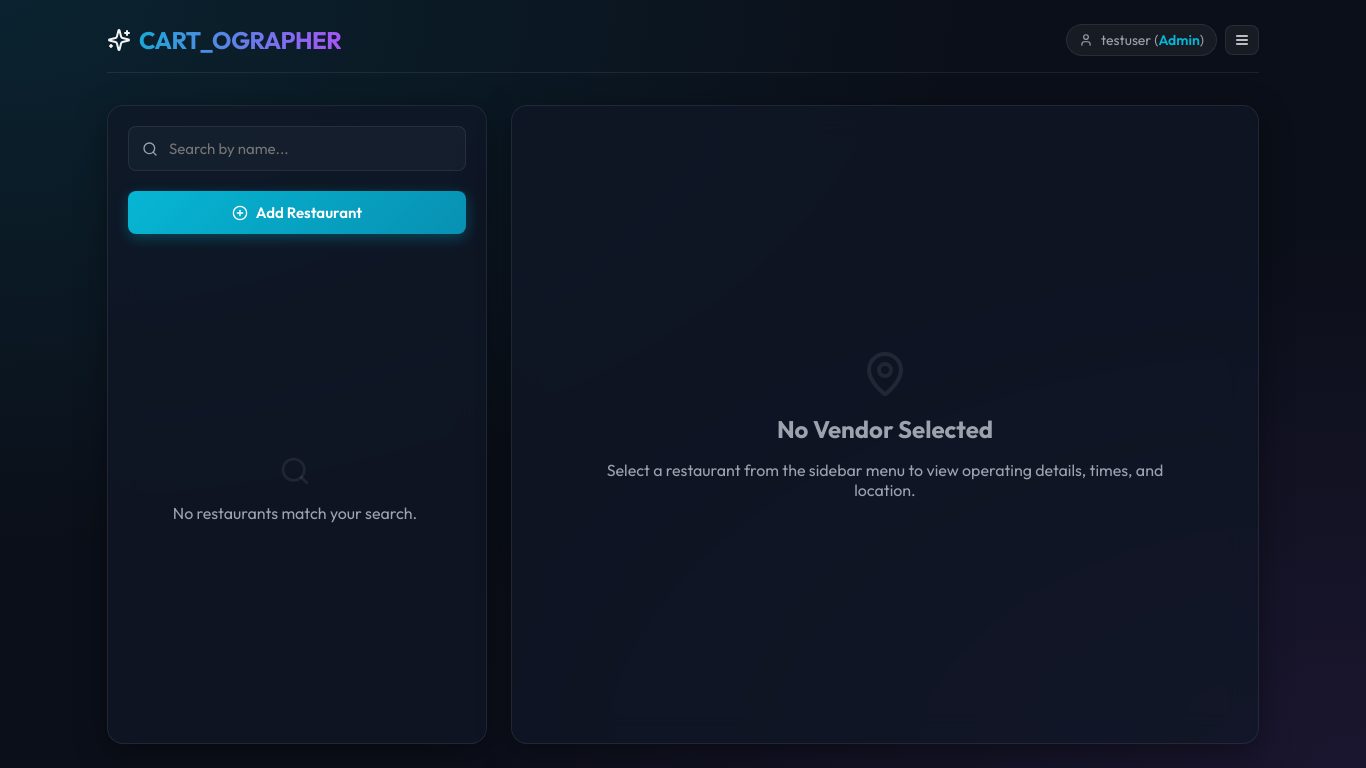
Test case: Web UI - App Component › Admin approvals view loads pending restaurants
The image size is (1366, 768).
Click the button named "menu" at (1242, 40), box top-left (1225, 25), bottom-right (1259, 55)
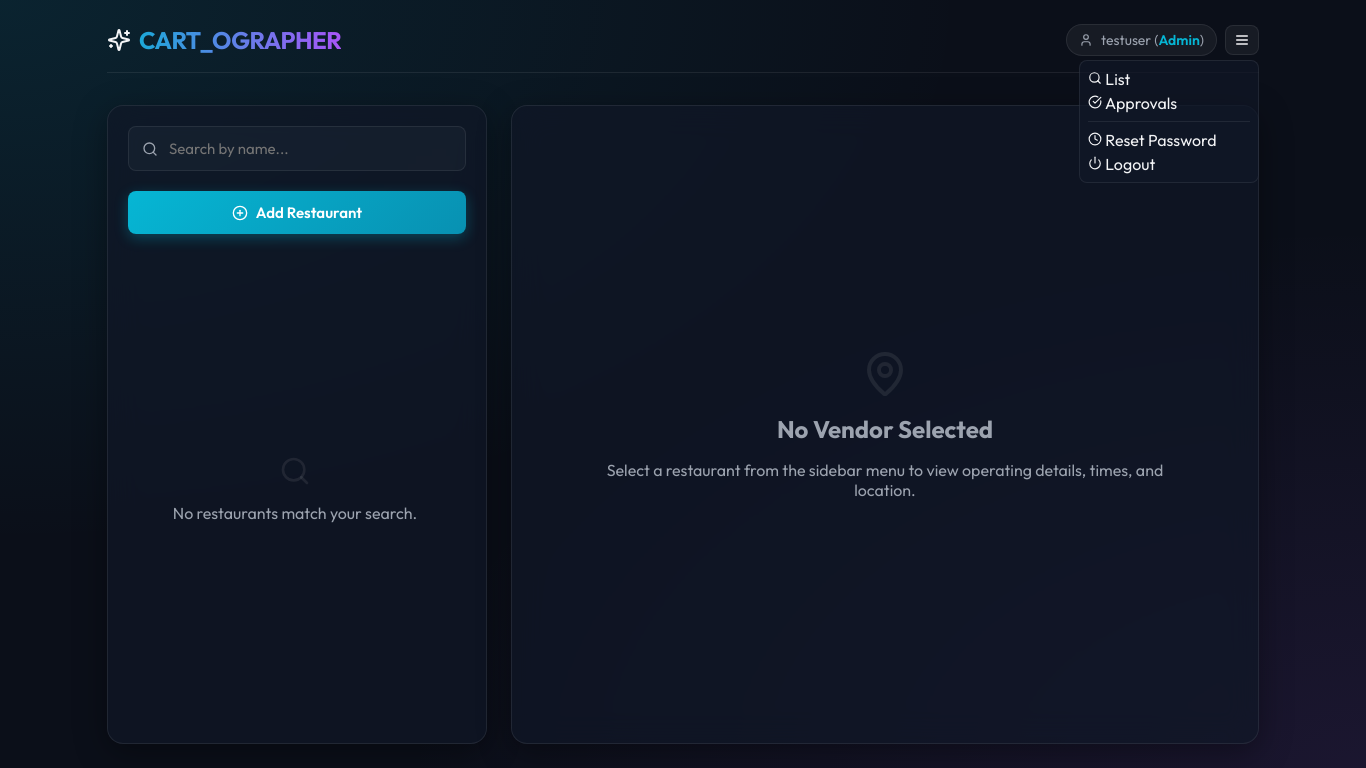
Click the text "Approvals" at (1133, 103), box top-left (1088, 93), bottom-right (1177, 113)
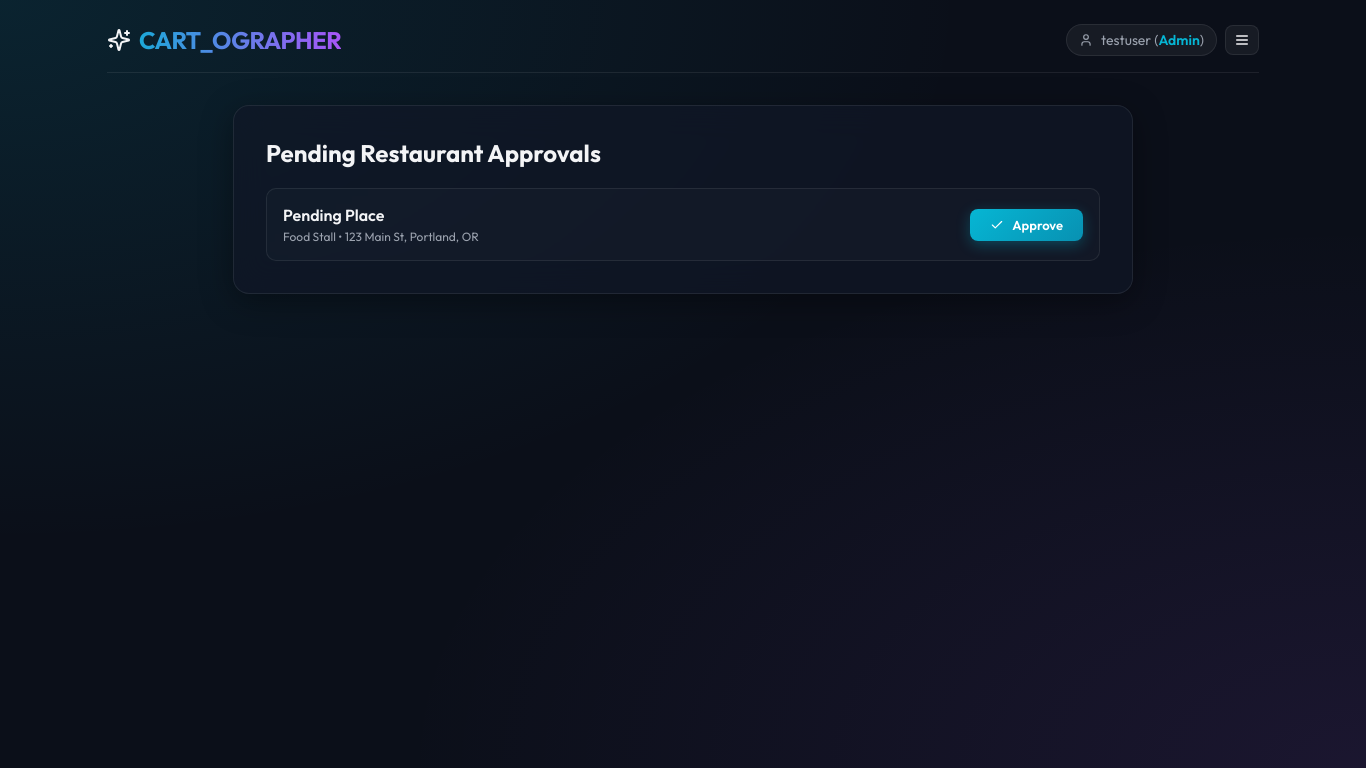
expect the text "Pending Place" is shown: met, box top-left (283, 205), bottom-right (384, 225)
